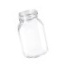plastic: (15, 8, 48, 57)
